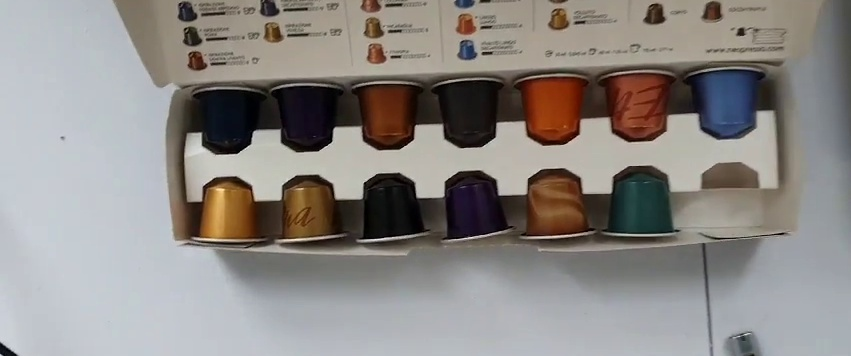capsule_1: (194, 84, 269, 158)
capsule_10: (351, 173, 433, 244)
capsule_11: (435, 168, 517, 242)
capsule_12: (519, 168, 597, 241)
capsule_13: (600, 166, 681, 241)
capsule_2: (270, 83, 346, 152)
capsule_3: (348, 82, 421, 150)
capsule_4: (429, 77, 505, 148)
capsule_5: (512, 67, 591, 145)
capsule_6: (592, 66, 680, 143)
capsule_7: (686, 61, 762, 140)
capsule_8: (183, 176, 271, 251)
capsule_9: (273, 175, 350, 246)
